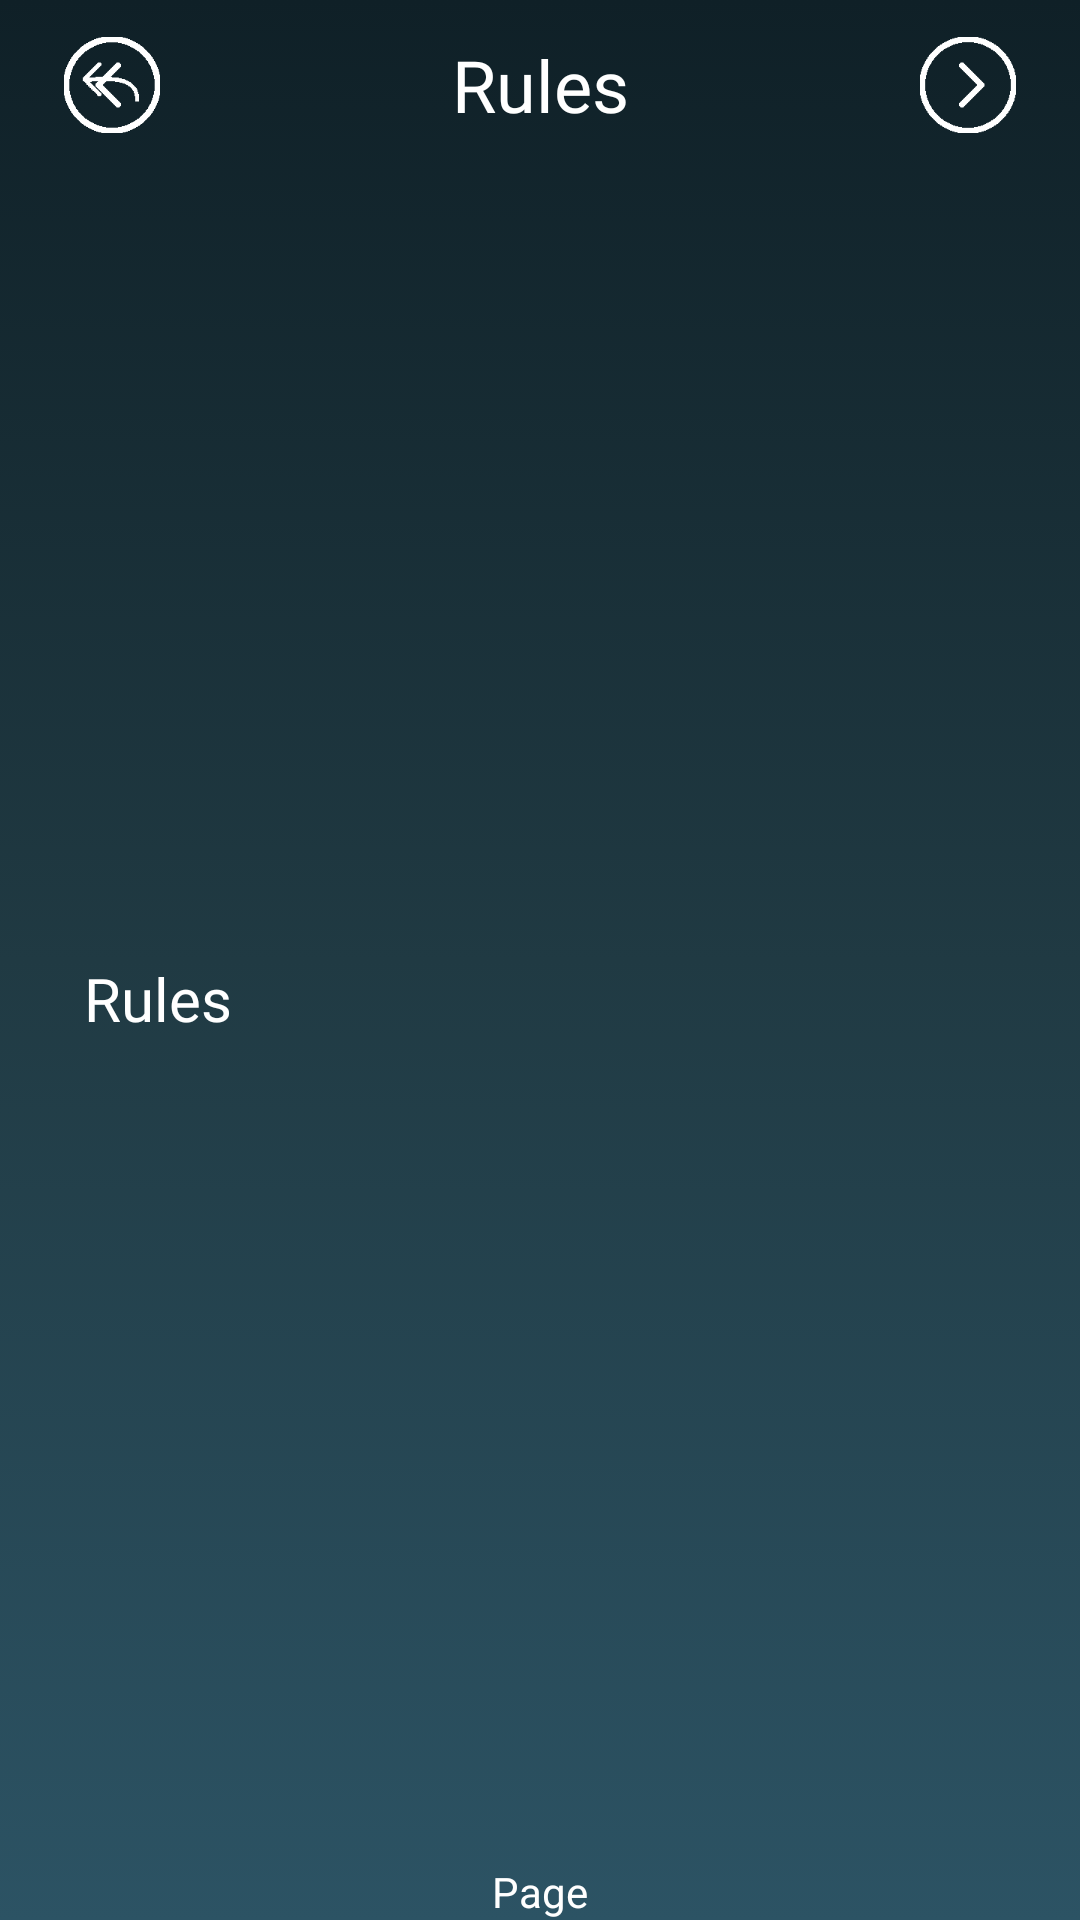

Named icons in this screenshot (1080x1920) and their bounding boxes, (x1,y1,x2,y2):
back: (64,37,160,133)
